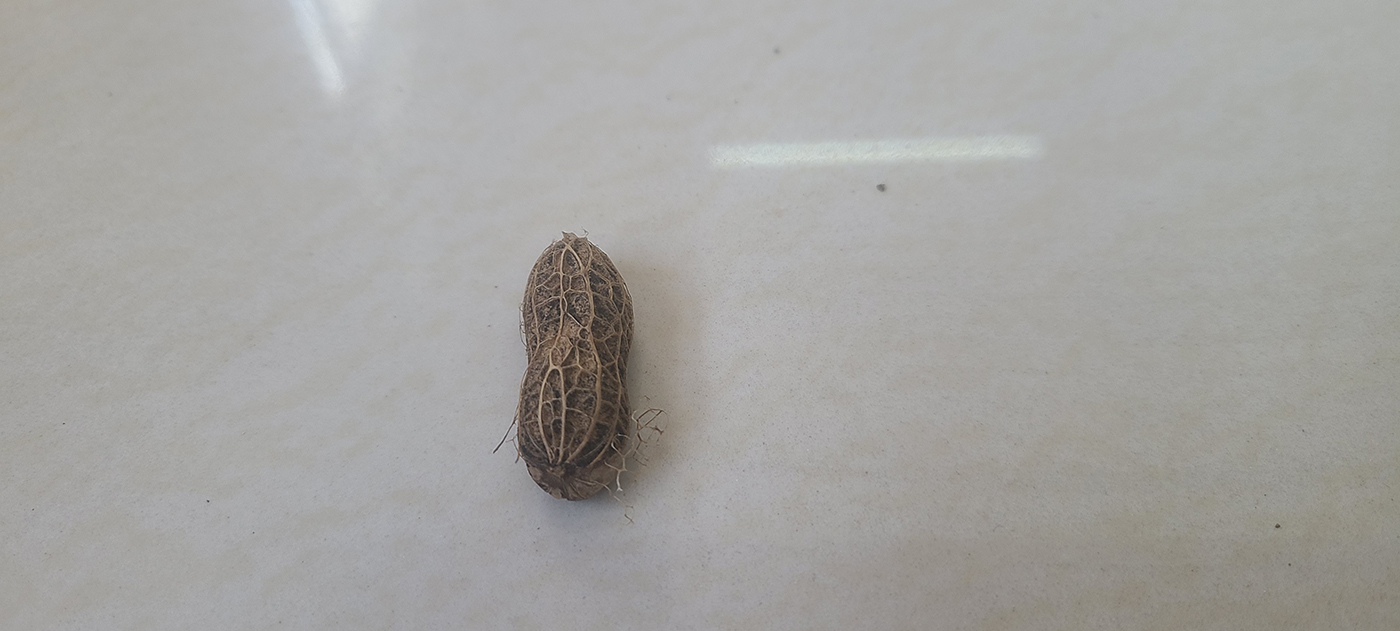l: (516, 234, 636, 499)
